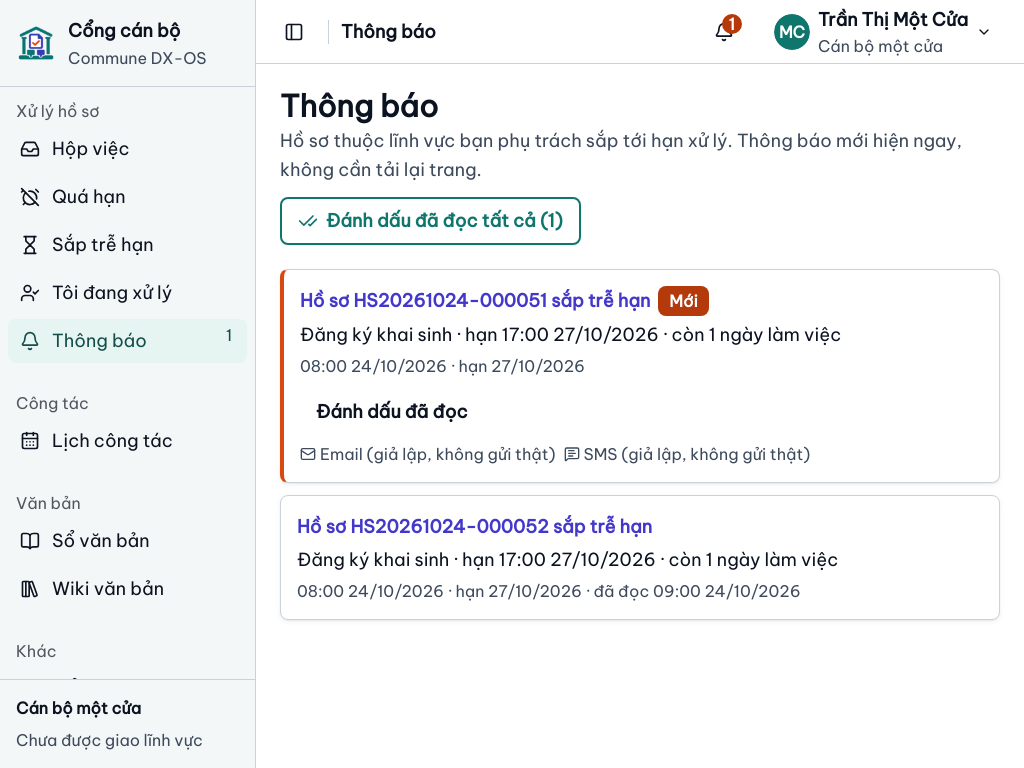
thông báo trong cổng cán bộ › hộp thông báo: chưa đọc có nhãn Mới, kênh ghi giả lập; đánh dấu đã đọc gửi PATCH chỉ thông báo chưa đọc
The width and height of the screenshot is (1024, 768).
Expected: the text "Mới" is shown, top-left (658, 286), bottom-right (709, 316)
Expected: the text "Email (giả lập, không gửi thật)" is shown, top-left (300, 442), bottom-right (556, 466)
What coordinates should you click on to do the following:
click the button "Đánh dấu đã đọc"
I would click on:
 (392, 412)
Its box is top-left (300, 390), bottom-right (484, 434).
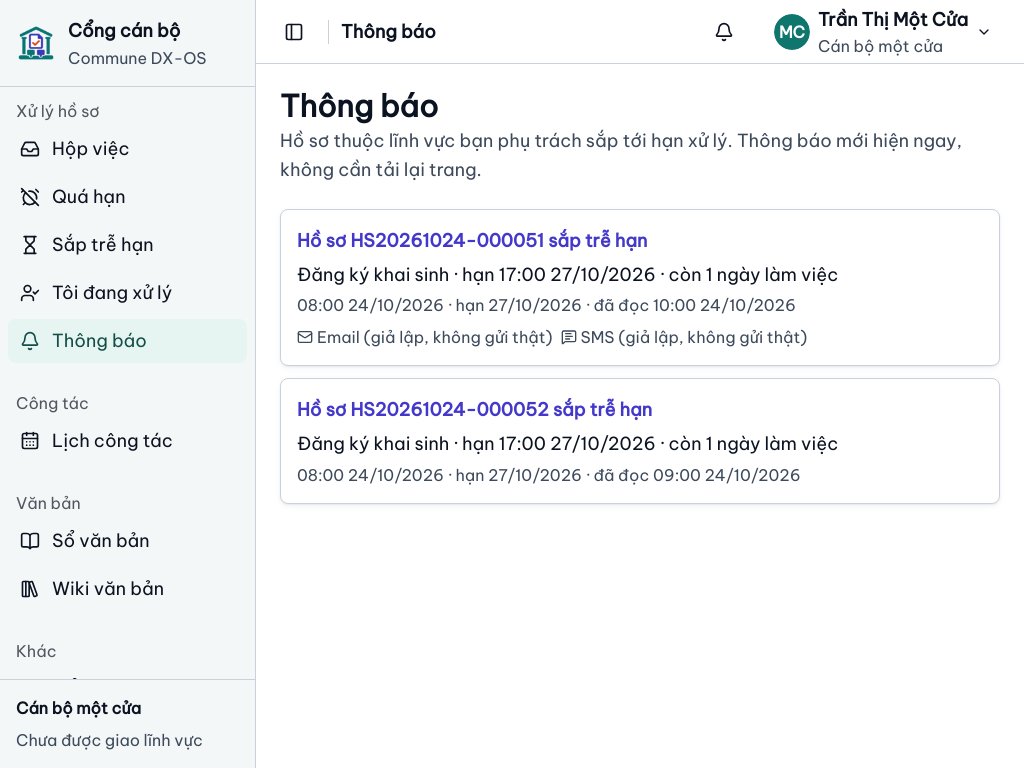
Expected: the button named "Thông báo: không có" is shown, top-left (702, 10), bottom-right (746, 54)
